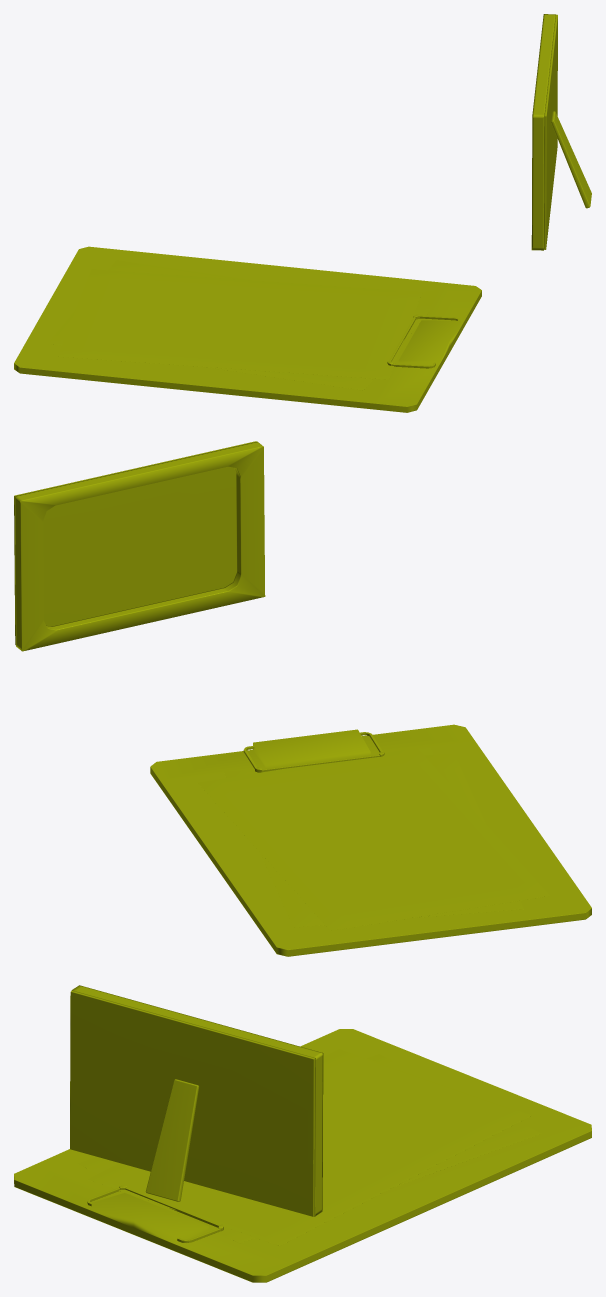
The model's file is UV Set 13 (App Form, PhotoFrame).fbx.
The picture shows the model from 3 angles, top to bottom: view 1: azimuth 30°, elevation 25°; view 2: azimuth 150°, elevation 25°; view 3: azimuth 270°, elevation 25°; orthographic projection. The views are drawn at different scales.
Visible parts, largest first — view 1: Paper1, Board, Frame1, Paper, Part_1, Rest1; view 2: Paper1, Board, Part_1 (×2), Frame1, Paper; view 3: Part_1 (×2), Board, Paper1, Rest1, Frame1, Paper.
Boxes of the visible parts, x1=… form: Paper1: x1=58, y1=269, x2=422, y2=379; Board: x1=14, y1=246, x2=481, y2=412; Frame1: x1=531, y1=14, x2=555, y2=250; Paper: x1=47, y1=260, x2=432, y2=390; Part_1: x1=544, y1=14, x2=557, y2=249; Rest1: x1=551, y1=111, x2=591, y2=208; Paper1: x1=198, y1=747, x2=549, y2=930; Board: x1=150, y1=724, x2=591, y2=956; Part_1 (×2): x1=14, y1=441, x2=384, y2=772; Frame1: x1=14, y1=441, x2=265, y2=651; Paper: x1=223, y1=753, x2=523, y2=927; Part_1 (×2): x1=70, y1=991, x2=315, y2=1243; Board: x1=14, y1=1029, x2=591, y2=1282; Paper1: x1=87, y1=1049, x2=531, y2=1246; Rest1: x1=145, y1=1079, x2=198, y2=1201; Frame1: x1=71, y1=985, x2=323, y2=1216; Paper: x1=78, y1=1054, x2=540, y2=1243.
Bounding box in the file's own units: 61.16 × 26.57 × 48.93.
